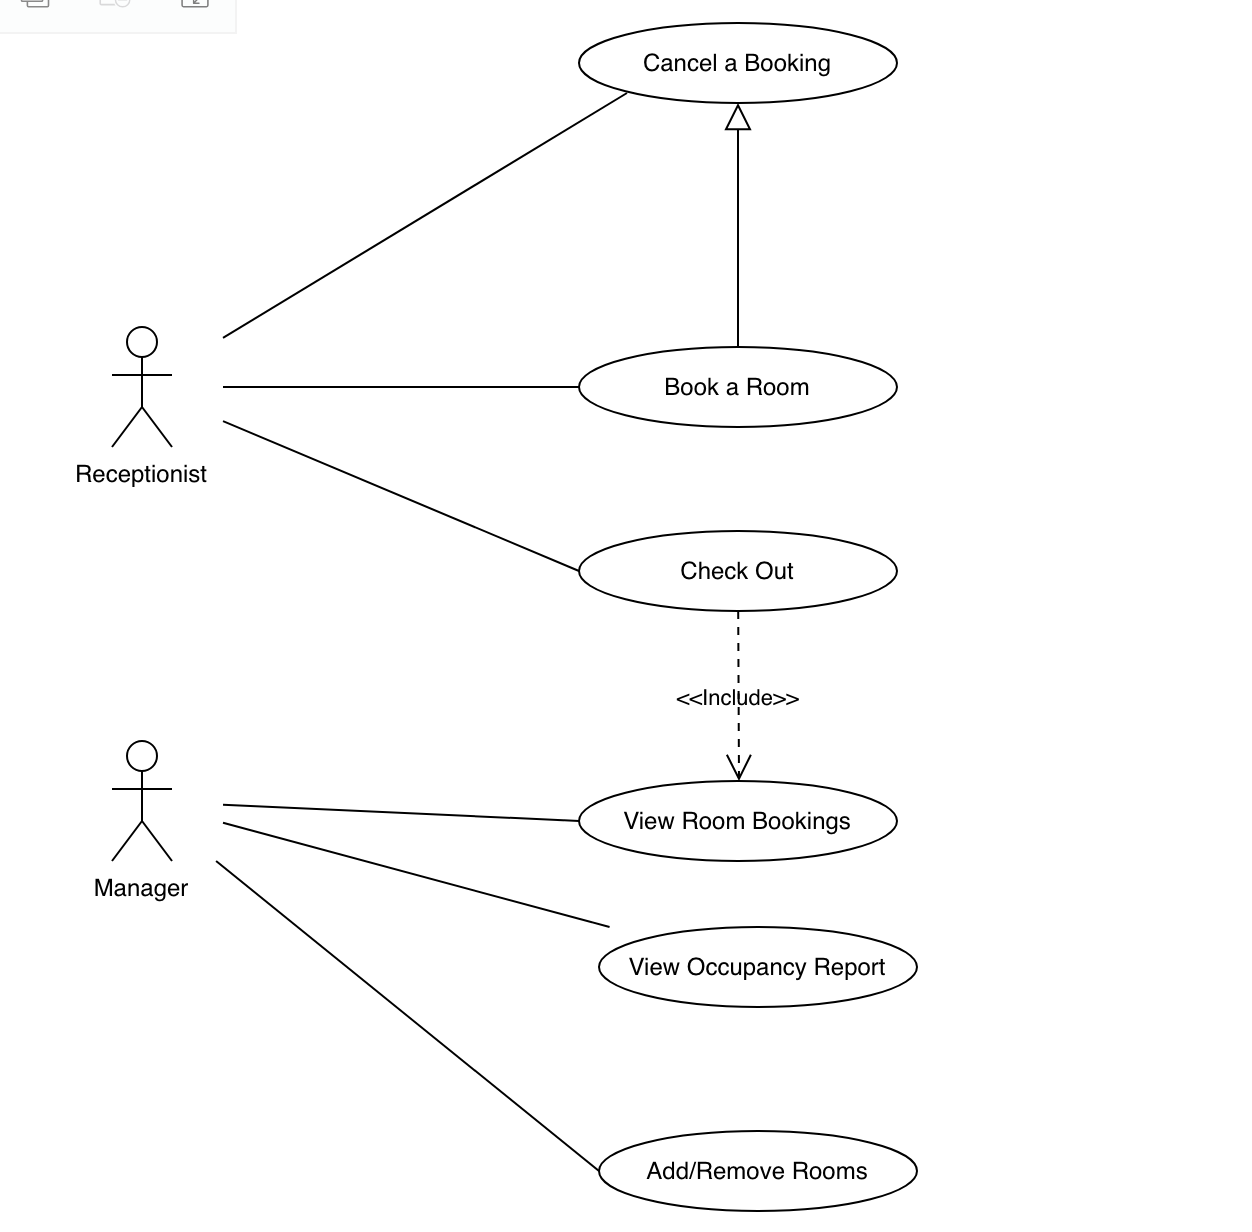actor: (99, 736, 182, 866), (100, 320, 179, 446)
association: (213, 861, 597, 1169), (221, 89, 631, 338), (214, 416, 579, 570), (219, 819, 612, 926), (213, 375, 579, 406), (220, 799, 582, 828), (718, 102, 755, 344), (722, 615, 755, 777)
text: (645, 1149, 872, 1191), (617, 800, 856, 841), (645, 45, 836, 88), (625, 952, 892, 983), (658, 367, 817, 406), (68, 457, 220, 489), (80, 871, 199, 906), (675, 557, 802, 586), (675, 687, 804, 710)
use_case: (580, 19, 898, 103), (600, 925, 922, 1007), (579, 345, 897, 428), (599, 1130, 918, 1209), (583, 780, 894, 860), (577, 533, 898, 609)
